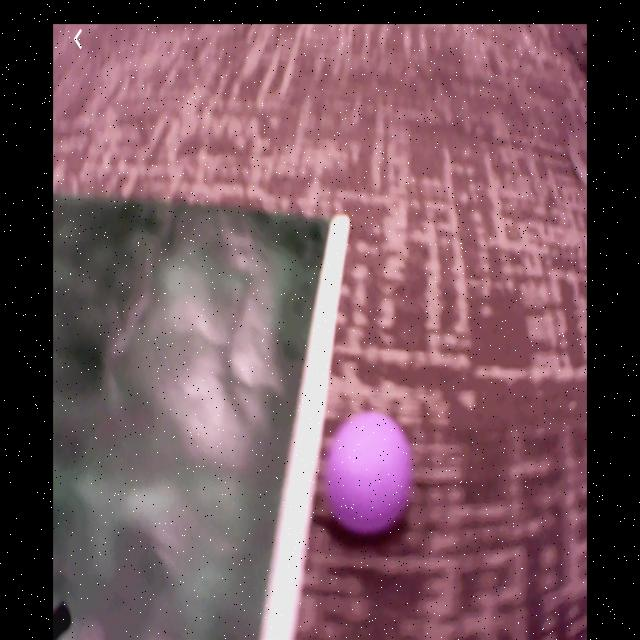ball: (327, 412, 407, 537)
